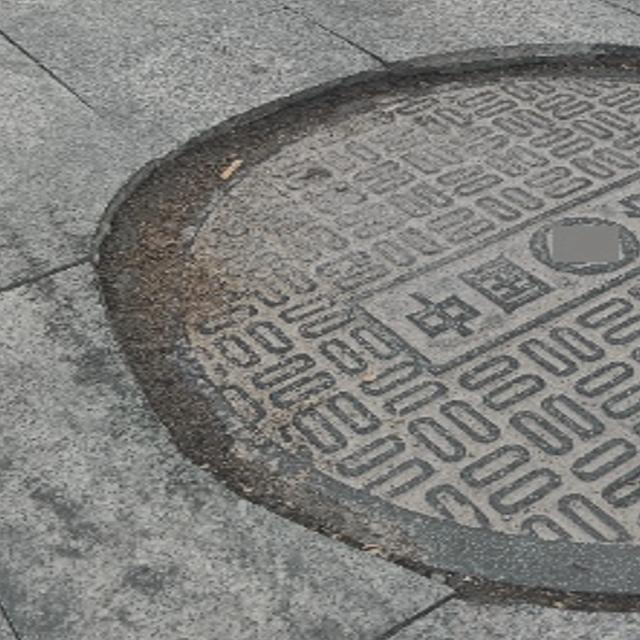good: (149, 63, 640, 601)
